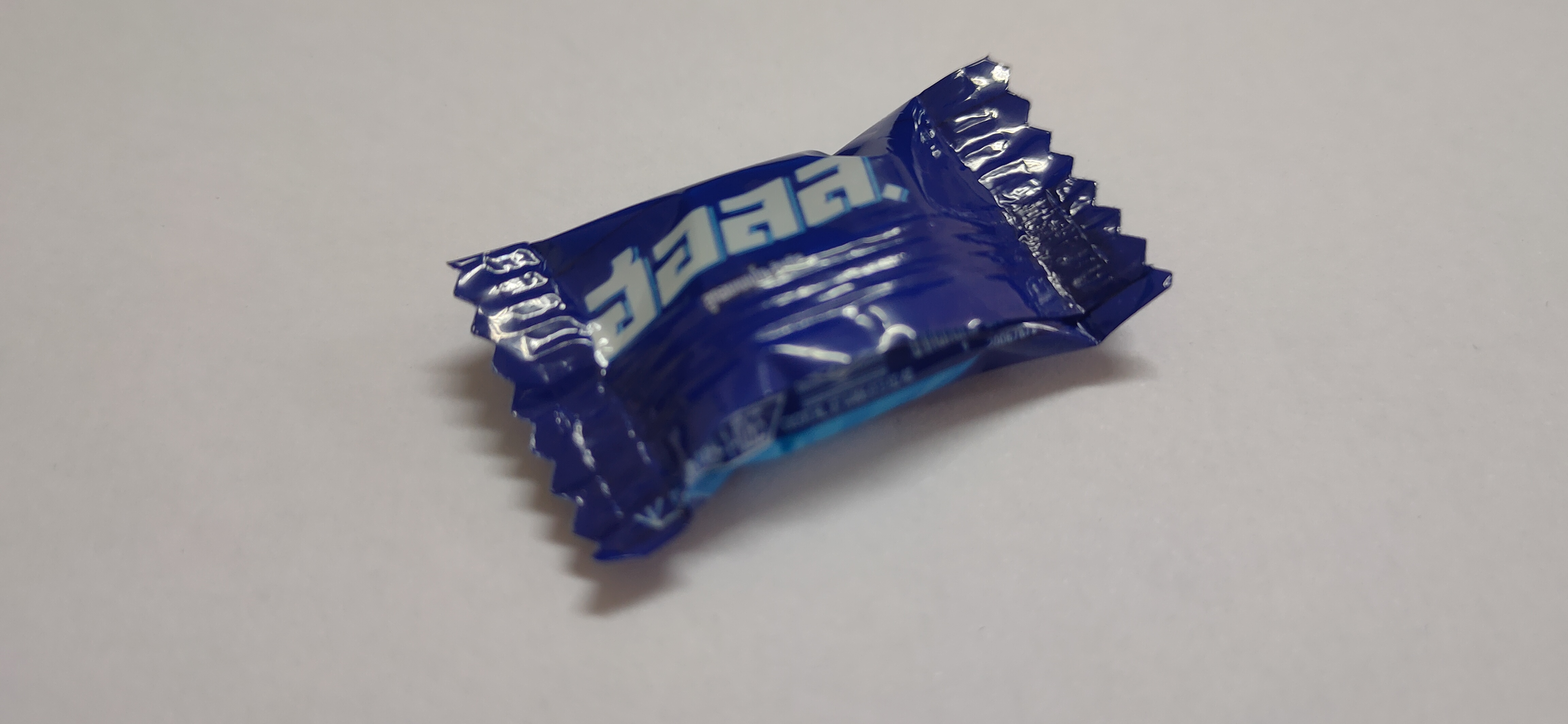plastic: (426, 38, 1190, 562)
